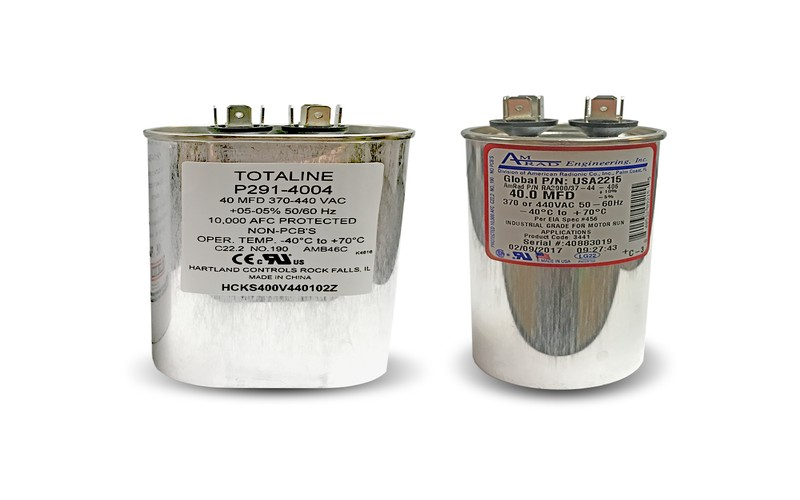Capacitor: (122, 81, 419, 398), (455, 85, 673, 406)
